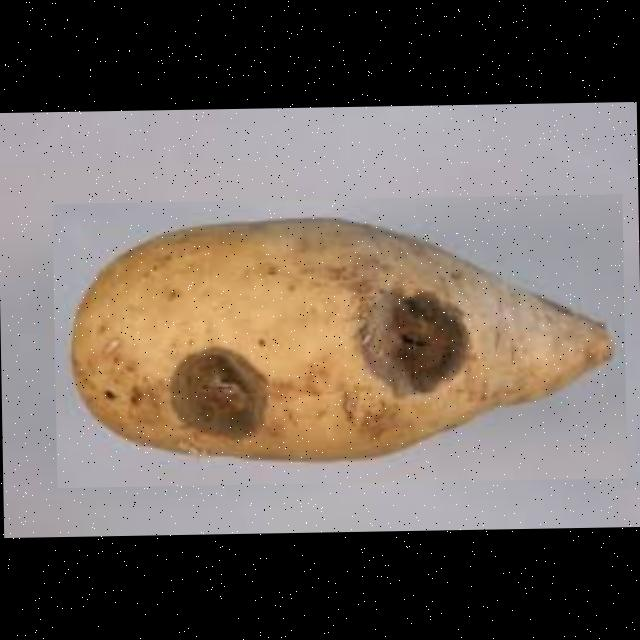Diseased-fungal potato: (52, 193, 627, 488)
